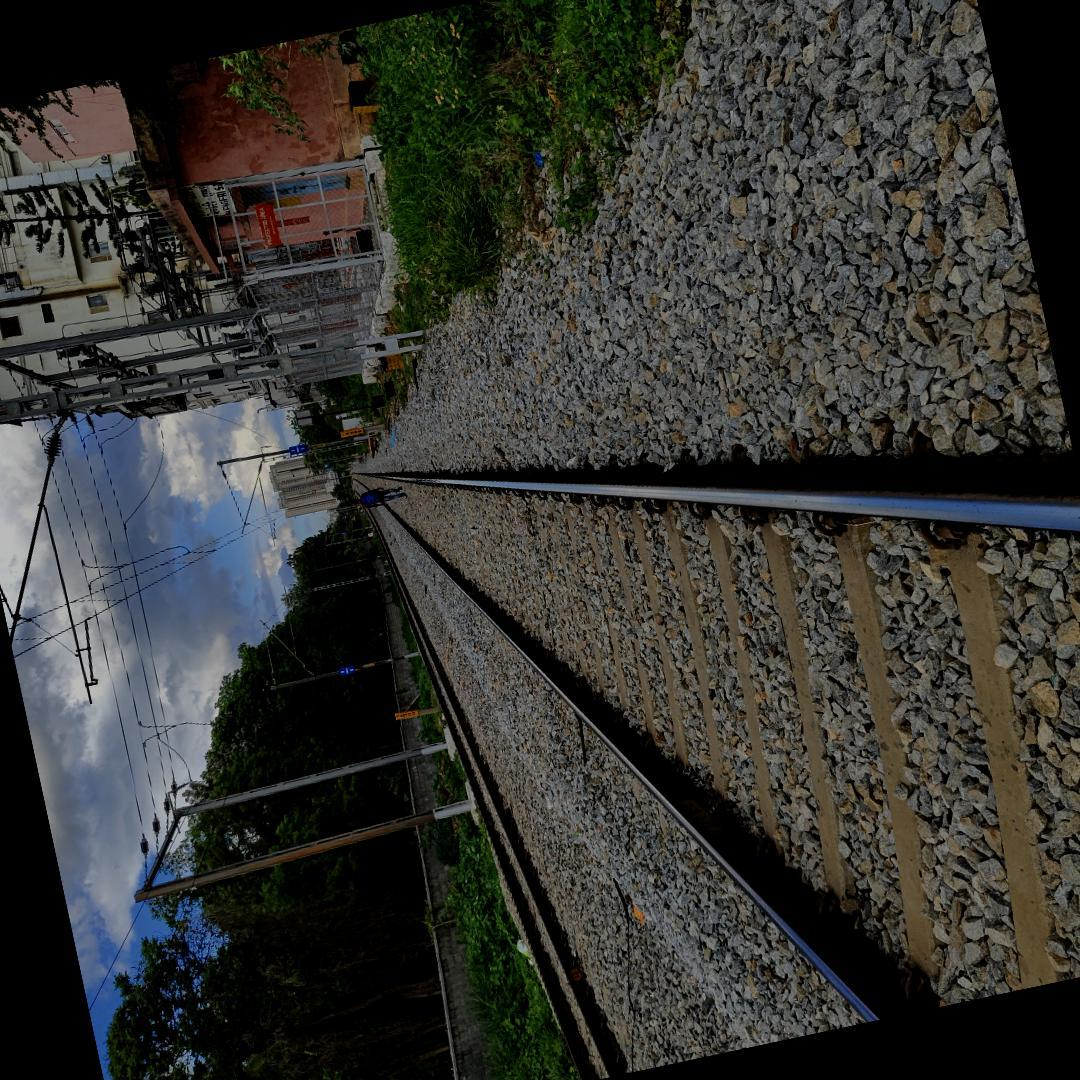standing: (346, 481, 411, 516)
